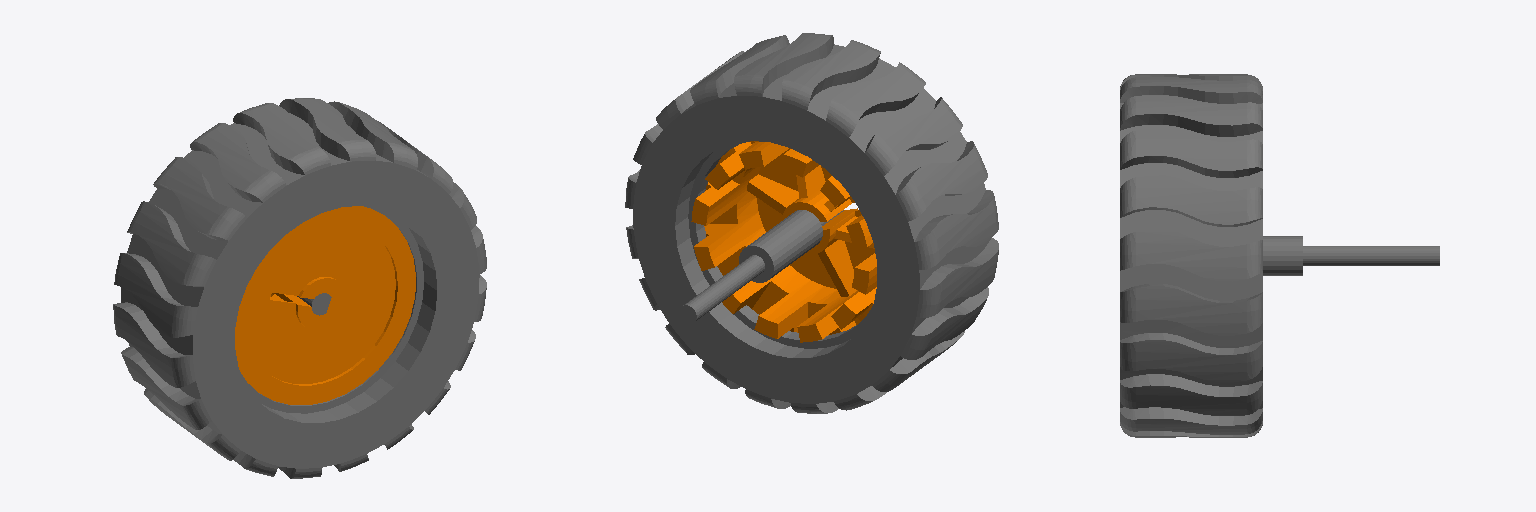
Rendered from roda_kanan_belakang.obj.
3 views of the same model, side by side, from view 1: azimuth 30°, elevation 25°; view 2: azimuth 150°, elevation 25°; view 3: azimuth 270°, elevation 25° (orthographic).
Parts seen in each view (by area): view 1: roda_kanan_belakang; view 2: roda_kanan_belakang; view 3: roda_kanan_belakang.
Part boxes in pixels (x1,y1,x2,y2): roda_kanan_belakang: (113, 98, 486, 478); roda_kanan_belakang: (625, 33, 998, 413); roda_kanan_belakang: (1120, 74, 1439, 437).
Size of the model in its own units: 0.0454 by 0.0454 by 0.04.